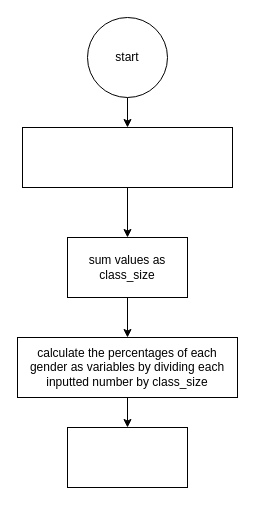
The diagram is 255 pixels wide and 505 high, and some of its shapes have lost their labels. The centre of each missing label's shape, as x and y in pixels:
"print the resulting values" belongs at (127,457).
"take input for male students, female students, and non-binary students" belongs at (127,157).
